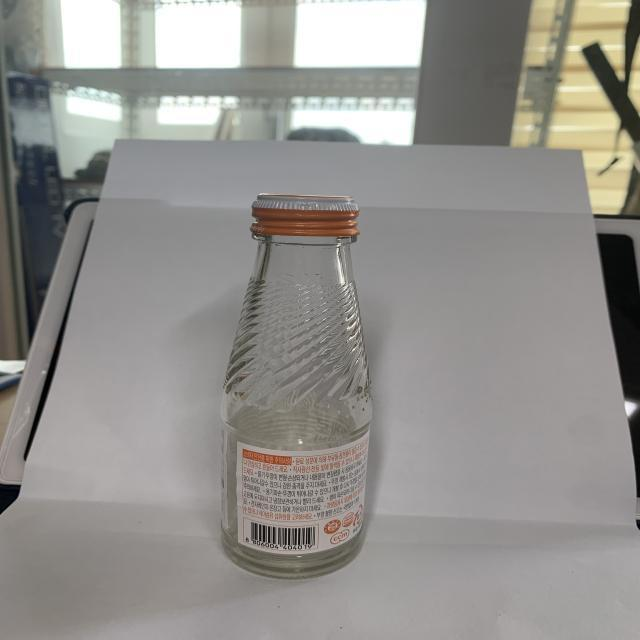Glass: (220, 194, 374, 580)
